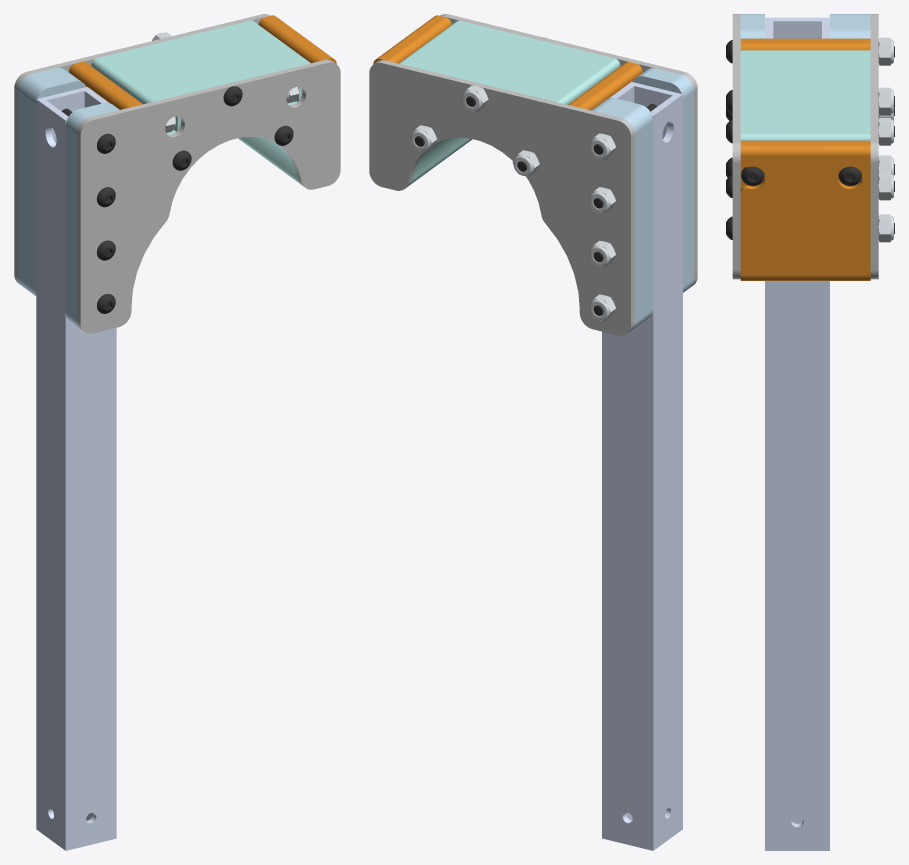
The picture shows the model from 3 angles, left to right: view 1: azimuth 30°, elevation 25°; view 2: azimuth 150°, elevation 25°; view 3: azimuth 270°, elevation 25°; orthographic projection. The views are drawn at different scales.
Parts seen in each view (by area): view 1: 1 Stage End, Part 2, Part 4, Part 8, Part 7, Part 3, Part 5, Part 6; view 2: 1 Stage End, Part 3, Part 4, Part 8, Part 7, Part 2, Part 5, Part 6; view 3: 1 Stage End, Part 6, Part 4, Part 3, Part 2, #10-32 Nylon-Insert Locknut (×5), Part 5, Part 8, #10-32 x 1" L BHCS (Steel, Black Oxide) (×2), Part 7.
Boxes of the visible parts, x1=… form: 1 Stage End: x1=36, y1=87, x2=116, y2=850; Part 2: x1=77, y1=59, x2=340, y2=333; Part 4: x1=91, y1=20, x2=310, y2=184; Part 8: x1=18, y1=67, x2=85, y2=296; Part 7: x1=65, y1=102, x2=119, y2=328; Part 3: x1=14, y1=14, x2=269, y2=284; Part 5: x1=69, y1=61, x2=142, y2=109; Part 6: x1=258, y1=15, x2=336, y2=63; 1 Stage End: x1=602, y1=82, x2=682, y2=850; Part 3: x1=369, y1=60, x2=634, y2=335; Part 4: x1=399, y1=20, x2=620, y2=185; Part 8: x1=591, y1=98, x2=653, y2=329; Part 7: x1=633, y1=68, x2=693, y2=292; Part 2: x1=440, y1=14, x2=697, y2=286; Part 5: x1=568, y1=62, x2=642, y2=110; Part 6: x1=373, y1=15, x2=451, y2=64; 1 Stage End: x1=765, y1=17, x2=829, y2=850; Part 6: x1=740, y1=140, x2=870, y2=280; Part 4: x1=740, y1=50, x2=870, y2=140; Part 3: x1=870, y1=14, x2=878, y2=279; Part 2: x1=732, y1=14, x2=740, y2=279; #10-32 Nylon-Insert Locknut (×5): x1=878, y1=37, x2=893, y2=242; Part 5: x1=740, y1=38, x2=870, y2=50; Part 8: x1=830, y1=14, x2=870, y2=38; #10-32 x 1" L BHCS (Steel, Black Oxide) (×2): x1=741, y1=166, x2=861, y2=186; Part 7: x1=740, y1=14, x2=764, y2=38.
Size of the model in its own units: 0.1296 by 0.3516 by 0.0661.
